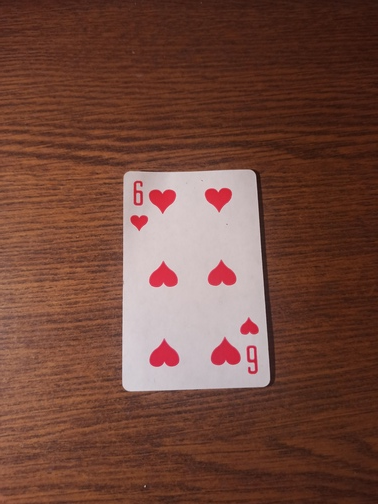sixhearts: (119, 168, 271, 393)
